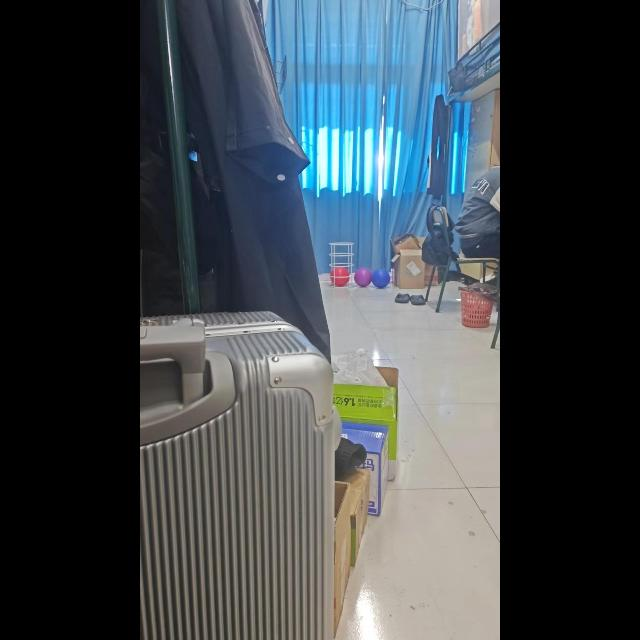B: (372, 268, 390, 290)
P: (355, 266, 373, 288)
R: (330, 266, 350, 286)
S: (327, 240, 353, 288)
